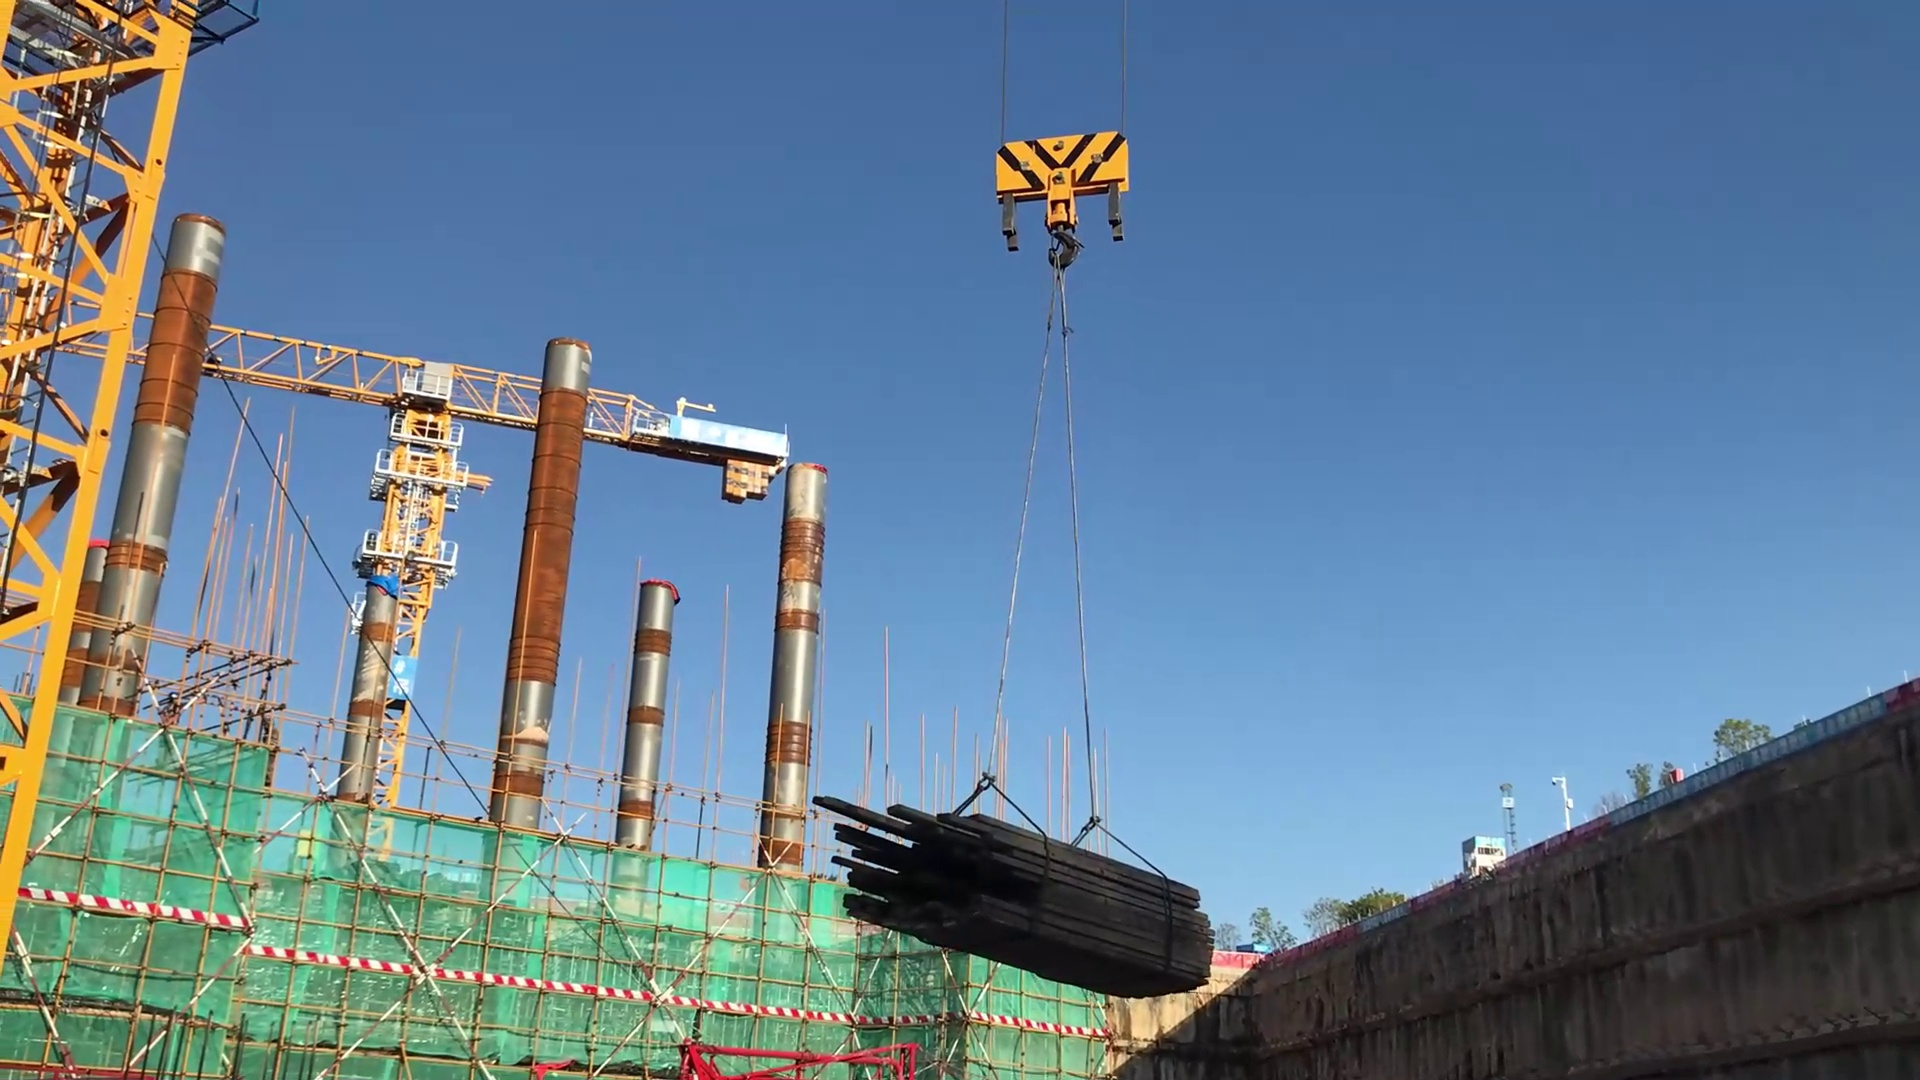hook: (975, 127, 1150, 297)
slogan: (1600, 700, 1909, 812)
wood: (796, 762, 1236, 1000)
